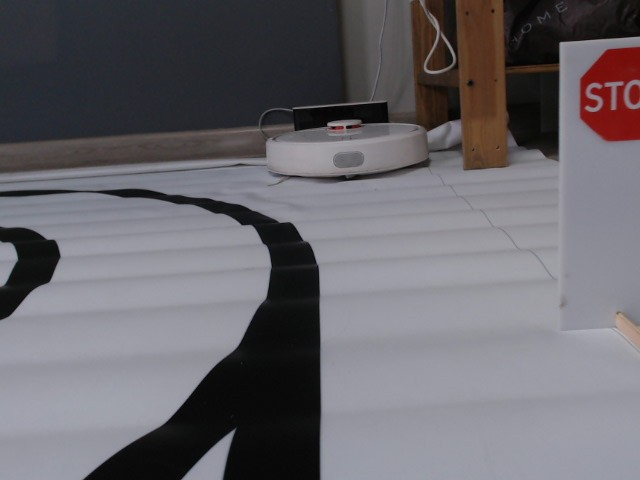Stop: (577, 45, 640, 142)
